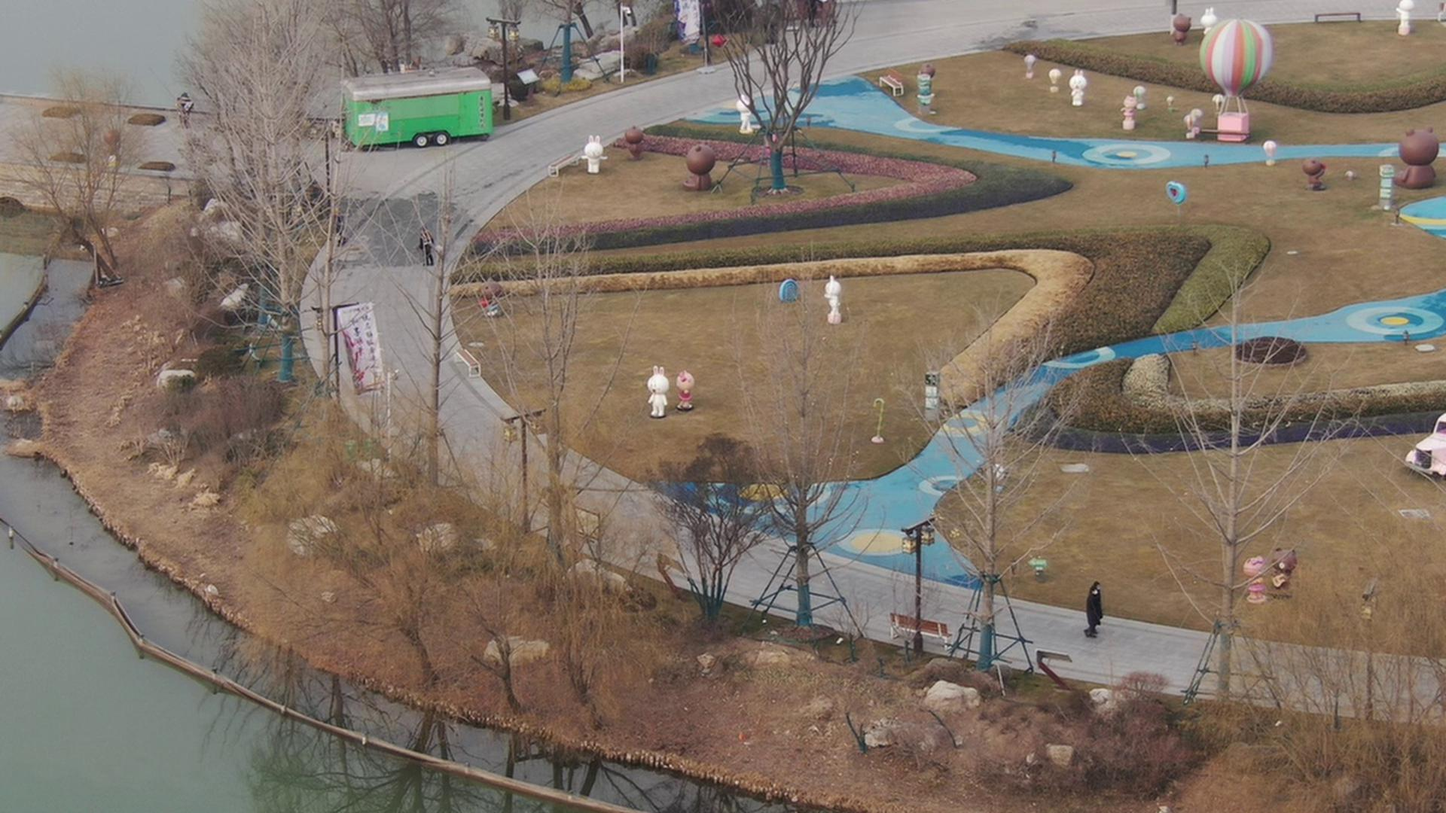class_2: (1079, 569, 1106, 643)
human: (413, 225, 440, 281)
